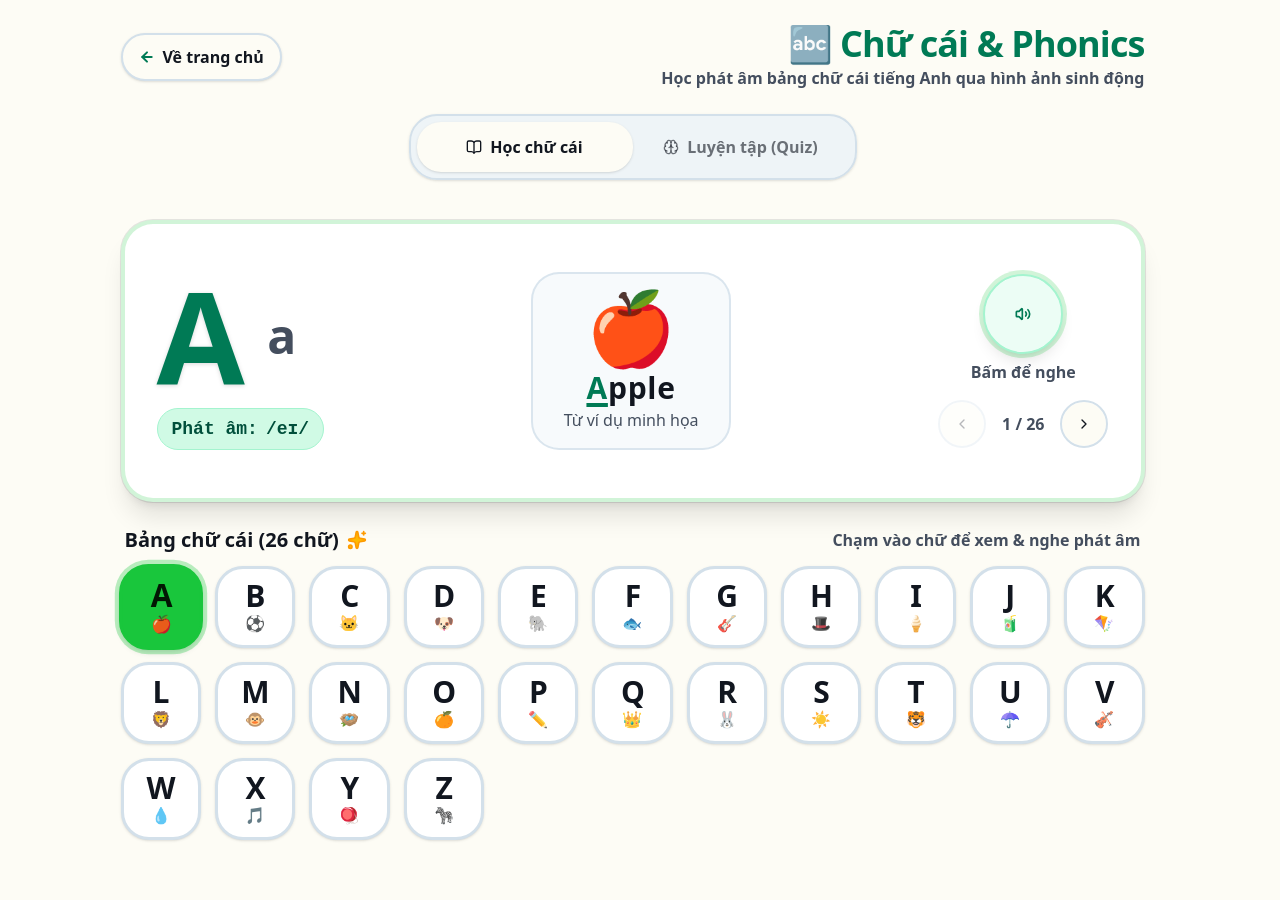
Test: Alphabet Game Page (app/games/alphabet/page.tsx) › in Learn mode, displays letter cards and updates details card when letter is clicked
This screenshot has width=1280, height=900.
What coordinates should you click on to do the following:
click the button "B ⚽"
I would click on:
 (255, 607)
Its box is [215,566,295,648].
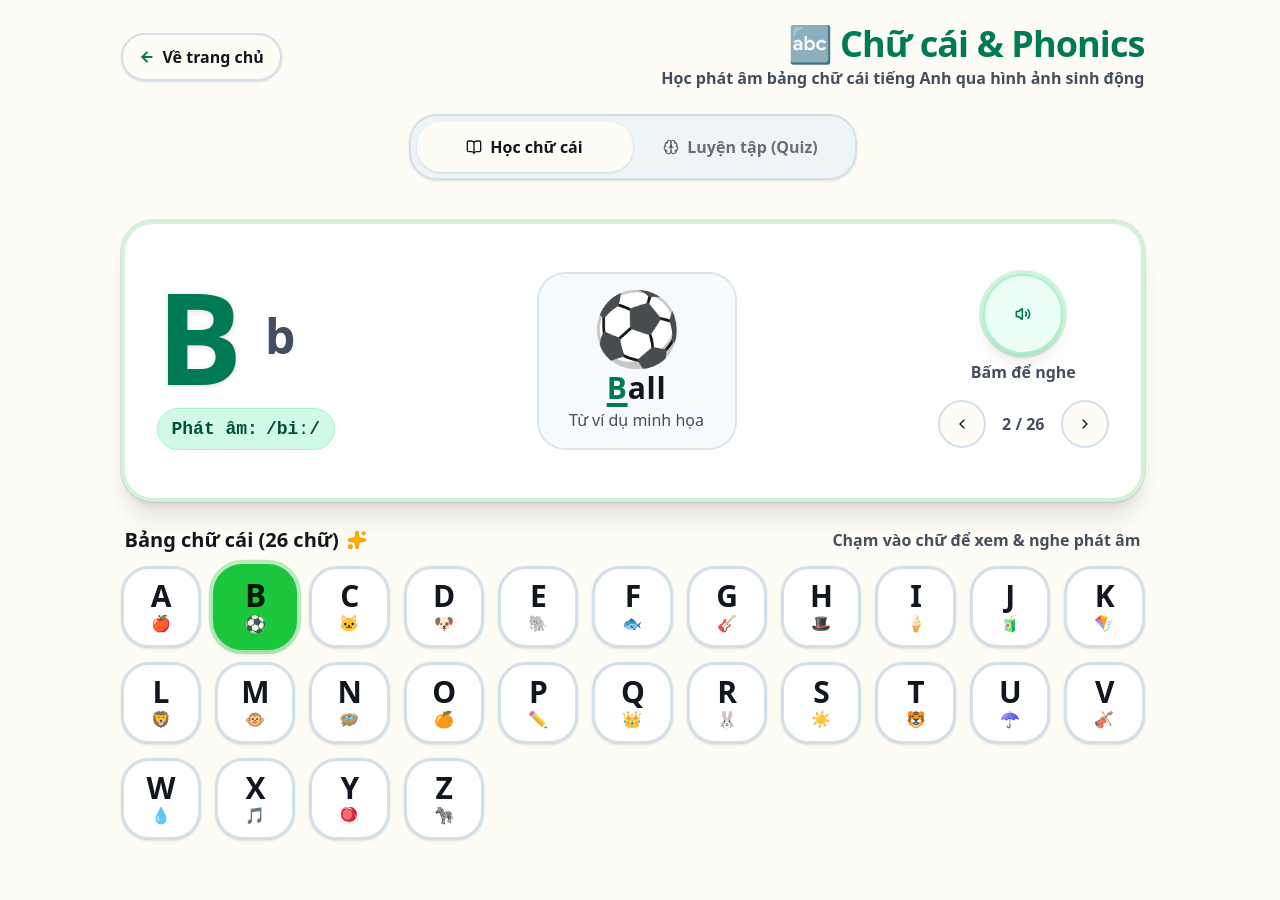
Expected: the element named "Từ ví dụ: Ball" is shown, [569,370,704,432]
